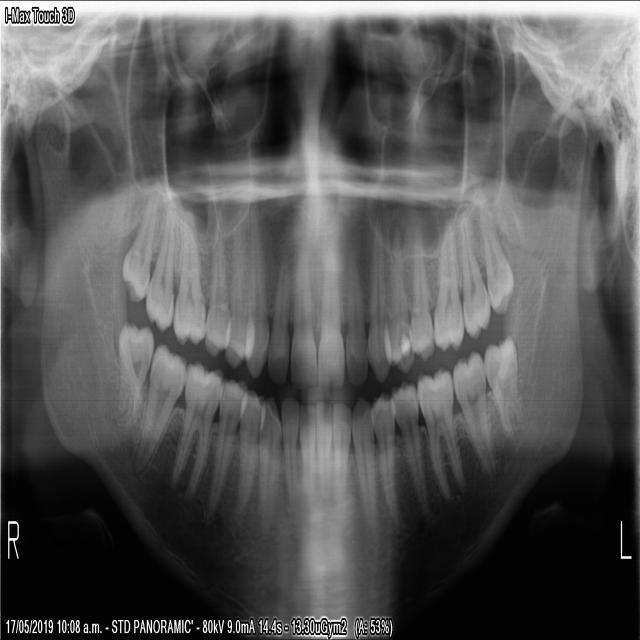LCD: (348, 391, 380, 533)
LCU: (365, 213, 392, 384)
LID: (328, 393, 353, 512), (312, 396, 333, 508)
LIU: (314, 241, 345, 391), (341, 235, 369, 388)
LMD: (412, 360, 465, 509), (447, 342, 495, 476), (478, 328, 526, 450)
LMU: (472, 195, 514, 322), (430, 209, 465, 355), (456, 207, 491, 341)
LPMD: (387, 373, 432, 524), (367, 388, 403, 530)
LPMU: (381, 216, 416, 373), (407, 215, 435, 364)
RCD: (253, 390, 282, 547)
RCU: (241, 196, 269, 382)
RID: (277, 390, 300, 516), (295, 394, 315, 509)
RIU: (287, 229, 317, 394), (264, 241, 290, 389)
RMD: (125, 335, 189, 478), (164, 354, 223, 509), (110, 312, 157, 443)
RMU: (115, 174, 163, 308), (169, 202, 206, 348), (140, 196, 176, 336)
RPMD: (199, 371, 248, 525), (228, 385, 266, 535)
RPMU: (219, 200, 254, 373), (201, 208, 233, 362)
